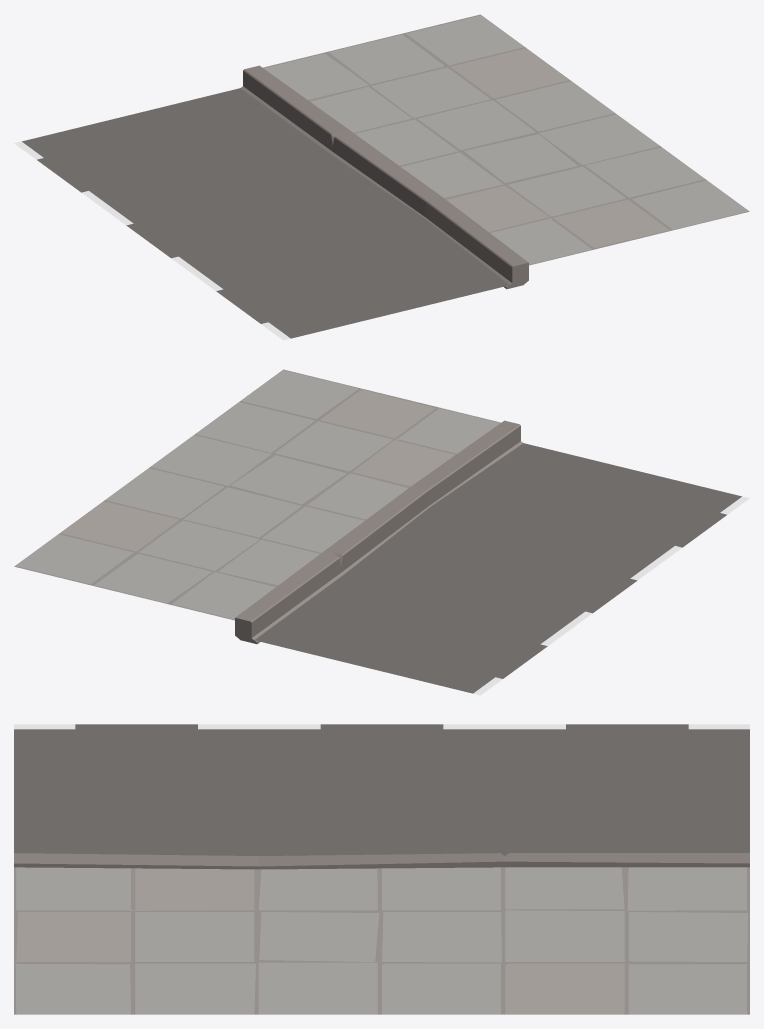
The model's file is Road_01.fbx.
The picture shows the model from 3 angles, top to bottom: view 1: azimuth 30°, elevation 25°; view 2: azimuth 150°, elevation 25°; view 3: azimuth 270°, elevation 25°; orthographic projection. The views are drawn at different scales.
Parts seen in each view (by area): view 1: Road_01; view 2: Road_01; view 3: Road_01.
Part boxes in pixels (x1=…): Road_01: x1=14, y1=14, x2=749, y2=340; Road_01: x1=14, y1=369, x2=749, y2=695; Road_01: x1=14, y1=724, x2=749, y2=1014.
Bounding box in the file's own units: 12 × 0.5706 × 12.
